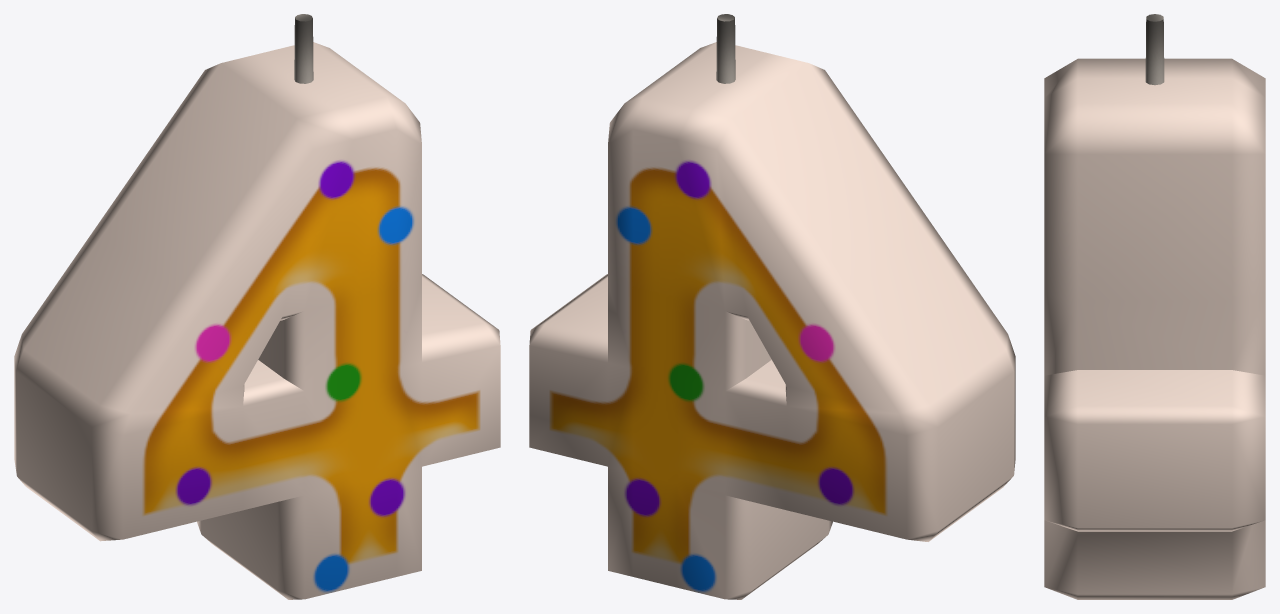
The model's file is Candle_4.fbx.
3 views of the same model, side by side, from view 1: azimuth 30°, elevation 25°; view 2: azimuth 150°, elevation 25°; view 3: azimuth 270°, elevation 25° (orthographic).
Parts seen in each view (by area): view 1: Candle_4; view 2: Candle_4; view 3: Candle_4.
Part boxes in pixels (x1,y1,x2,y2): Candle_4: [14, 14, 500, 599]; Candle_4: [529, 14, 1015, 599]; Candle_4: [1044, 14, 1265, 599].
Size of the model in its own units: 24.05 by 30.52 by 11.11.
